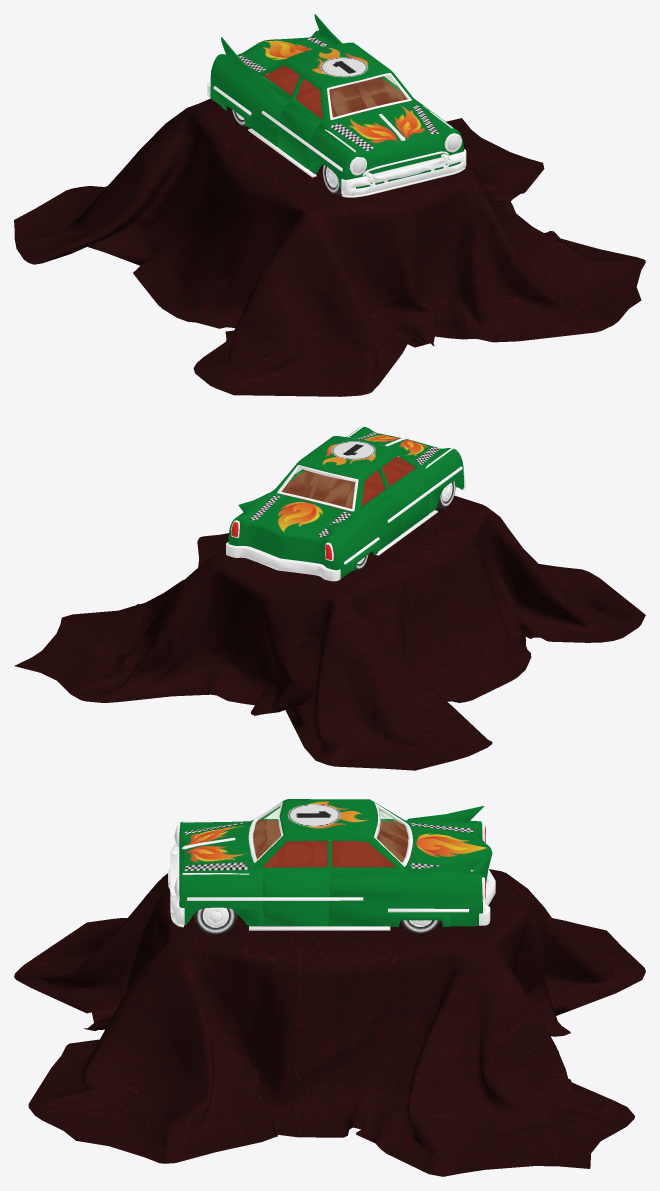
Rendered from ToyCar.glb.
The picture shows the model from 3 angles, top to bottom: view 1: azimuth 30°, elevation 25°; view 2: azimuth 150°, elevation 25°; view 3: azimuth 270°, elevation 25°; orthographic projection. The views are drawn at different scales.
Parts seen in each view (by area): view 1: Fabric, ToyCar, Glass; view 2: Fabric, ToyCar, Glass; view 3: Fabric, ToyCar, Glass.
Boxes of the visible parts, x1=… form: Fabric: x1=14, y1=98, x2=645, y2=396; ToyCar: x1=207, y1=14, x2=466, y2=197; Glass: x1=329, y1=75, x2=406, y2=116; Fabric: x1=14, y1=495, x2=645, y2=770; ToyCar: x1=226, y1=425, x2=465, y2=581; Glass: x1=282, y1=468, x2=354, y2=508; Fabric: x1=14, y1=869, x2=645, y2=1176; ToyCar: x1=168, y1=799, x2=495, y2=934; Glass: x1=252, y1=806, x2=409, y2=862.
Size of the model in its own units: 0.0734 by 0.0288 by 0.074.
3 materials, 2 textured.
